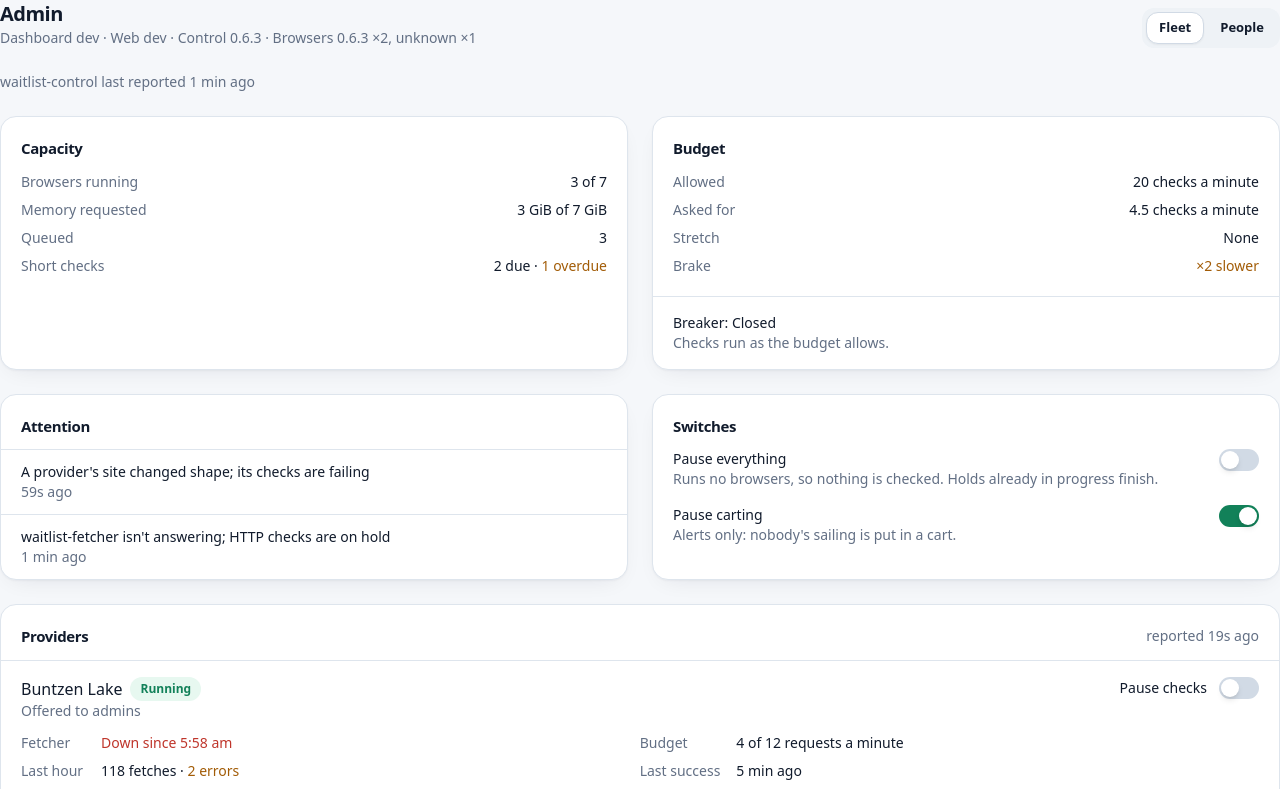
Test: providers checked over HTTP › pauses a provider's checks with a reason, and resumes them
The width and height of the screenshot is (1280, 789).
Click the switch named "Pause checks" next to "Pause checks".
click(1239, 688)  # box top-left (1219, 676), bottom-right (1259, 698)
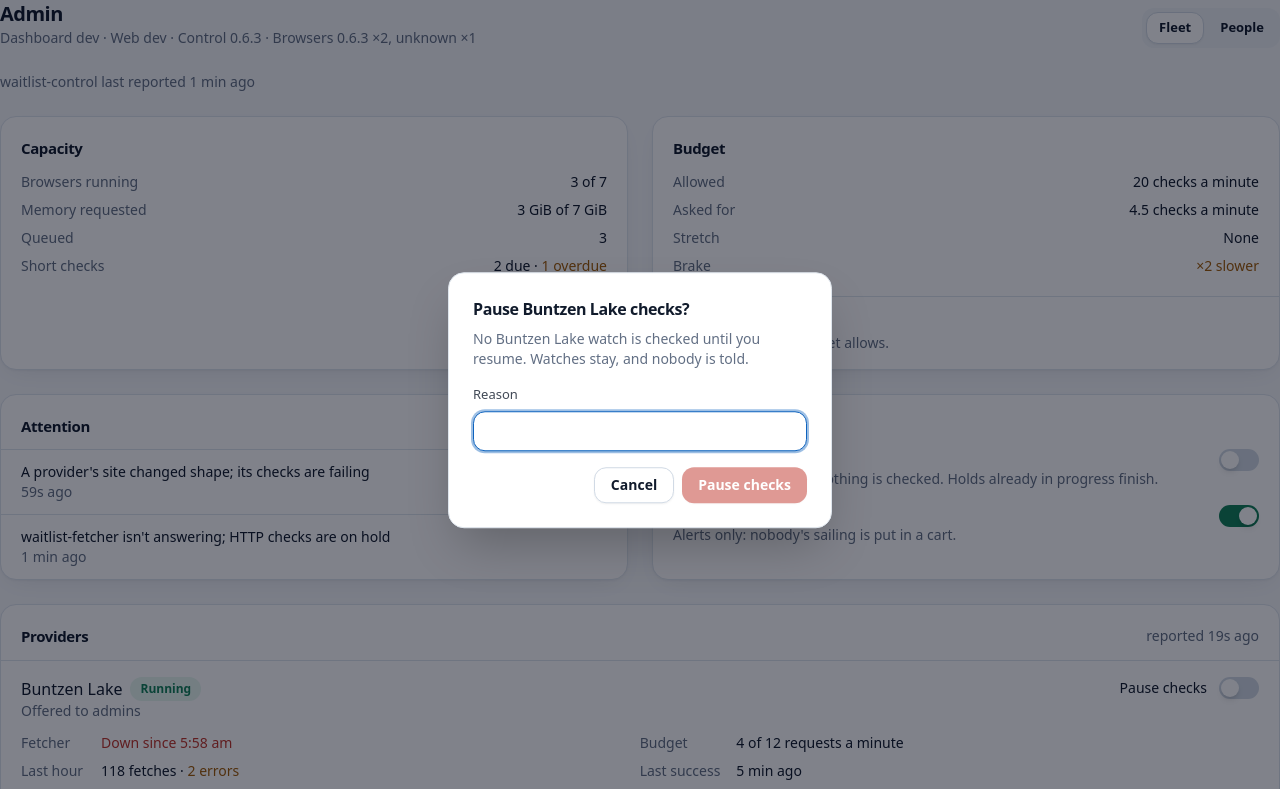
Type "Yodel asked" into the field labelled "Reason".
click(640, 431); type("Yodel asked")  # box top-left (473, 411), bottom-right (807, 451)
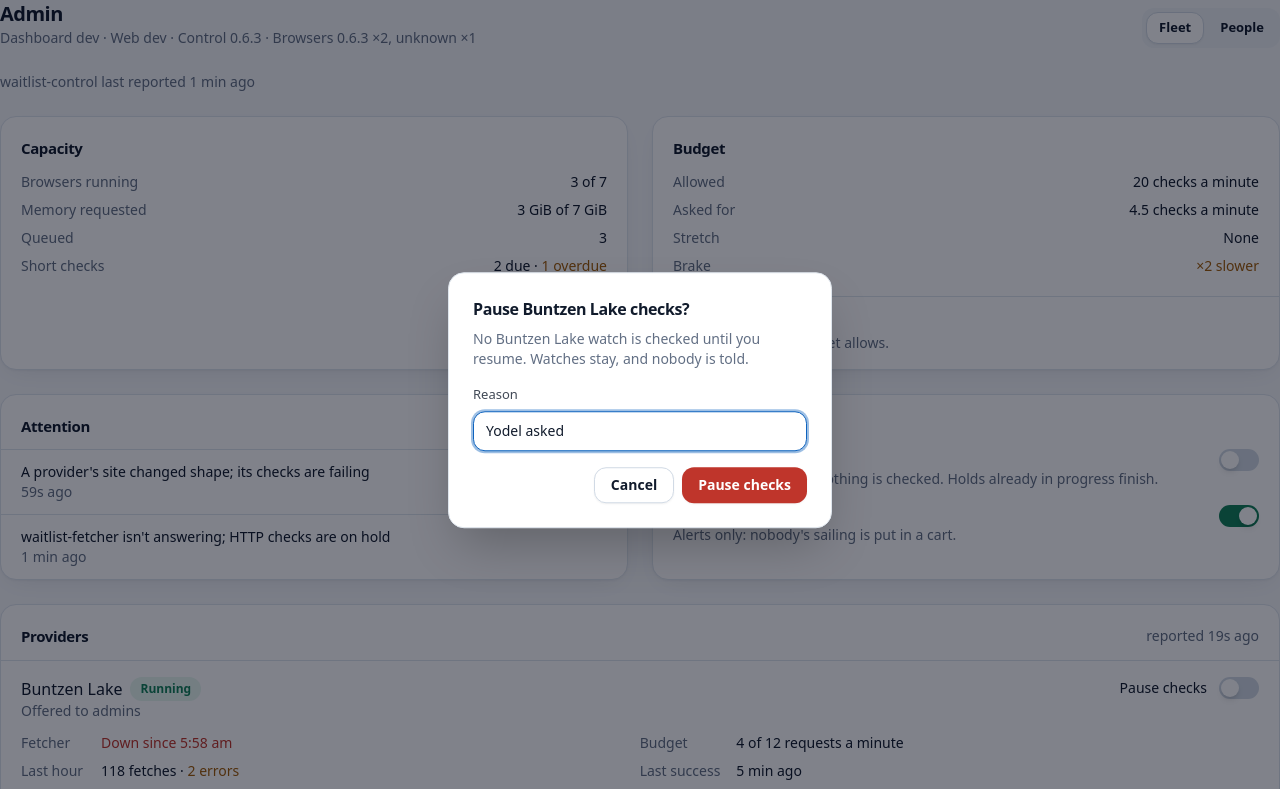
Click the button "Pause checks".
click(745, 485)  # box top-left (682, 467), bottom-right (807, 503)
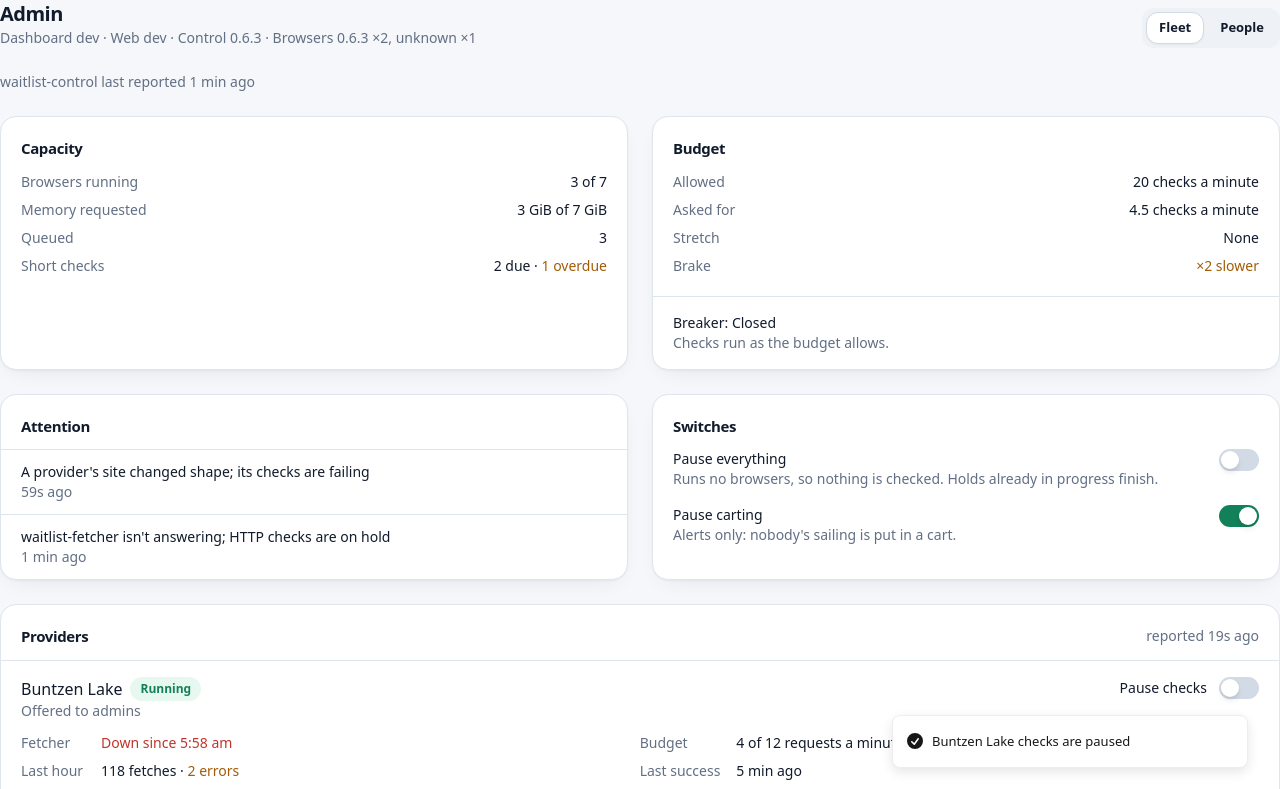
Now the text "Buntzen Lake checks are paused" is shown, box top-left (932, 732), bottom-right (1130, 751)
